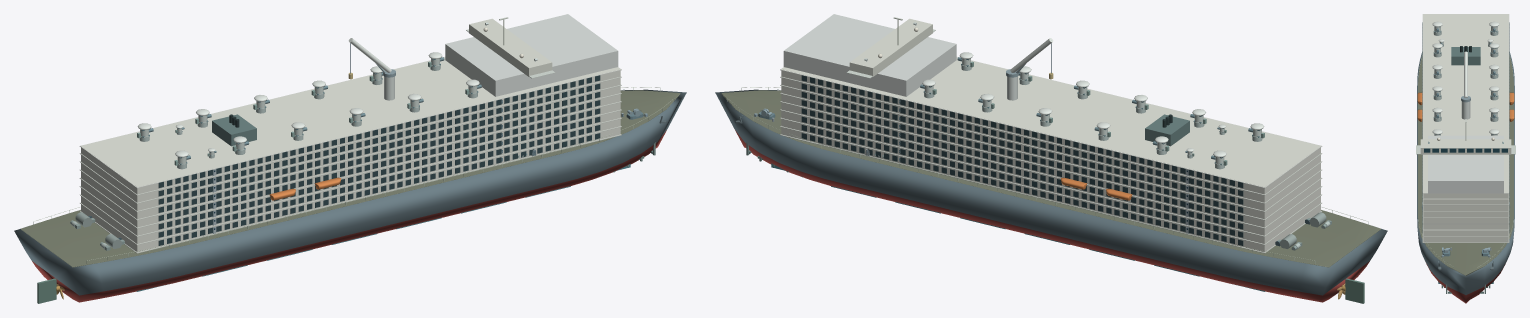
File: ocean-drover.lod0.glb
The picture shows the model from 3 angles, left to right: view 1: azimuth 30°, elevation 25°; view 2: azimuth 150°, elevation 25°; view 3: azimuth 270°, elevation 25°; orthographic projection. The views are drawn at different scales.
Parts seen in each view (by area): view 1: ocean-drover.accommodation.superstructure.deck-8-enclosure.1, ocean-drover.structure.hull.outer-hull-shell.1, ocean-drover.accommodation.livestock-bridge.forward-accommod, ocean-drover.structure.decks.main-strength-deck.1, ocean-drover.structure.hull.antifouling-underwater-shell.1, ocean-drover.accommodation.superstructure.deck-5-enclosure.1, ocean-drover.accommodation.superstructure.deck-2-enclosure.1, ocean-drover.accommodation.superstructure.deck-6-enclosure.1, ocean-drover.accommodation.superstructure.deck-7-enclosure.1, ocean-drover.accommodation.superstructure.deck-1-enclosure.1, ocean-drover.accommodation.superstructure.deck-4-enclosure.1, ocean-drover.accommodation.superstructure.deck-3-enclosure.1 (+11 smaller); view 2: ocean-drover.accommodation.superstructure.deck-8-enclosure.1, ocean-drover.structure.hull.outer-hull-shell.1, ocean-drover.accommodation.livestock-bridge.forward-accommod, ocean-drover.structure.decks.main-strength-deck.1, ocean-drover.structure.hull.antifouling-underwater-shell.1, ocean-drover.accommodation.superstructure.deck-5-enclosure.1, ocean-drover.accommodation.superstructure.deck-2-enclosure.1, ocean-drover.accommodation.superstructure.deck-6-enclosure.1, ocean-drover.accommodation.superstructure.deck-7-enclosure.1, ocean-drover.accommodation.superstructure.deck-1-enclosure.1, ocean-drover.accommodation.superstructure.deck-4-enclosure.1, ocean-drover.accommodation.superstructure.deck-3-enclosure.1 (+11 smaller); view 3: ocean-drover.accommodation.superstructure.deck-8-enclosure.1, ocean-drover.accommodation.livestock-bridge.forward-accommod, ocean-drover.structure.decks.main-strength-deck.1, ocean-drover.structure.hull.outer-hull-shell.1, ocean-drover.navigation.bridge.wheelhouse.1, ocean-drover.accommodation.superstructure.superstructure-wea, ocean-drover.accommodation.superstructure.deck-1-enclosure.1, ocean-drover.accommodation.superstructure.deck-5-enclosure.1, ocean-drover.accommodation.superstructure.deck-2-enclosure.1, ocean-drover.accommodation.superstructure.deck-3-enclosure.1, ocean-drover.accommodation.superstructure.deck-4-enclosure.1, ocean-drover.accommodation.superstructure.deck-6-enclosure.1 (+12 smaller).
Boxes of the visible parts, x1=… form: ocean-drover.accommodation.superstructure.deck-8-enclosure.1: x1=81, y1=57, x2=620, y2=194; ocean-drover.structure.hull.outer-hull-shell.1: x1=14, y1=89, x2=686, y2=295; ocean-drover.accommodation.livestock-bridge.forward-accommod: x1=445, y1=14, x2=618, y2=96; ocean-drover.structure.decks.main-strength-deck.1: x1=21, y1=90, x2=680, y2=267; ocean-drover.structure.hull.antifouling-underwater-shell.1: x1=32, y1=130, x2=666, y2=302; ocean-drover.accommodation.superstructure.deck-5-enclosure.1: x1=81, y1=94, x2=620, y2=219; ocean-drover.accommodation.superstructure.deck-2-enclosure.1: x1=81, y1=119, x2=620, y2=243; ocean-drover.accommodation.superstructure.deck-6-enclosure.1: x1=81, y1=86, x2=620, y2=210; ocean-drover.accommodation.superstructure.deck-7-enclosure.1: x1=81, y1=78, x2=620, y2=202; ocean-drover.accommodation.superstructure.deck-1-enclosure.1: x1=81, y1=127, x2=620, y2=252; ocean-drover.accommodation.superstructure.deck-4-enclosure.1: x1=81, y1=102, x2=620, y2=227; ocean-drover.accommodation.superstructure.deck-3-enclosure.1: x1=81, y1=111, x2=620, y2=235; ocean-drover.accommodation.superstructure.deck-8-enclosure.1: x1=781, y1=57, x2=1320, y2=194; ocean-drover.structure.hull.outer-hull-shell.1: x1=715, y1=89, x2=1387, y2=295; ocean-drover.accommodation.livestock-bridge.forward-accommod: x1=783, y1=14, x2=956, y2=96; ocean-drover.structure.decks.main-strength-deck.1: x1=721, y1=90, x2=1380, y2=267; ocean-drover.structure.hull.antifouling-underwater-shell.1: x1=735, y1=130, x2=1369, y2=302; ocean-drover.accommodation.superstructure.deck-5-enclosure.1: x1=781, y1=94, x2=1320, y2=219; ocean-drover.accommodation.superstructure.deck-2-enclosure.1: x1=781, y1=119, x2=1320, y2=243; ocean-drover.accommodation.superstructure.deck-6-enclosure.1: x1=781, y1=86, x2=1320, y2=210; ocean-drover.accommodation.superstructure.deck-7-enclosure.1: x1=781, y1=78, x2=1320, y2=202; ocean-drover.accommodation.superstructure.deck-1-enclosure.1: x1=781, y1=127, x2=1320, y2=252; ocean-drover.accommodation.superstructure.deck-4-enclosure.1: x1=781, y1=102, x2=1320, y2=227; ocean-drover.accommodation.superstructure.deck-3-enclosure.1: x1=781, y1=111, x2=1320, y2=235; ocean-drover.accommodation.superstructure.deck-8-enclosure.1: x1=1423, y1=14, x2=1508, y2=198; ocean-drover.accommodation.livestock-bridge.forward-accommod: x1=1428, y1=135, x2=1503, y2=193; ocean-drover.structure.decks.main-strength-deck.1: x1=1418, y1=56, x2=1513, y2=275; ocean-drover.structure.hull.outer-hull-shell.1: x1=1417, y1=52, x2=1514, y2=294; ocean-drover.navigation.bridge.wheelhouse.1: x1=1420, y1=139, x2=1511, y2=154; ocean-drover.accommodation.superstructure.superstructure-wea: x1=1422, y1=14, x2=1509, y2=193; ocean-drover.accommodation.superstructure.deck-1-enclosure.1: x1=1423, y1=236, x2=1508, y2=242; ocean-drover.accommodation.superstructure.deck-5-enclosure.1: x1=1423, y1=211, x2=1508, y2=217; ocean-drover.accommodation.superstructure.deck-2-enclosure.1: x1=1423, y1=230, x2=1508, y2=235; ocean-drover.accommodation.superstructure.deck-3-enclosure.1: x1=1423, y1=224, x2=1508, y2=229; ocean-drover.accommodation.superstructure.deck-4-enclosure.1: x1=1423, y1=218, x2=1508, y2=223; ocean-drover.accommodation.superstructure.deck-6-enclosure.1: x1=1423, y1=205, x2=1508, y2=210.
Size of the model in its own units: 181 by 50.2 by 31.82.
